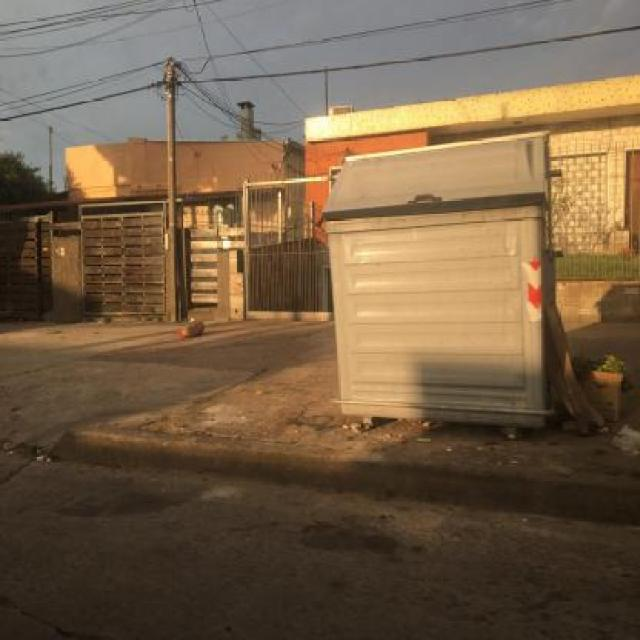garbage: (550, 303, 623, 450), (177, 305, 214, 349)
